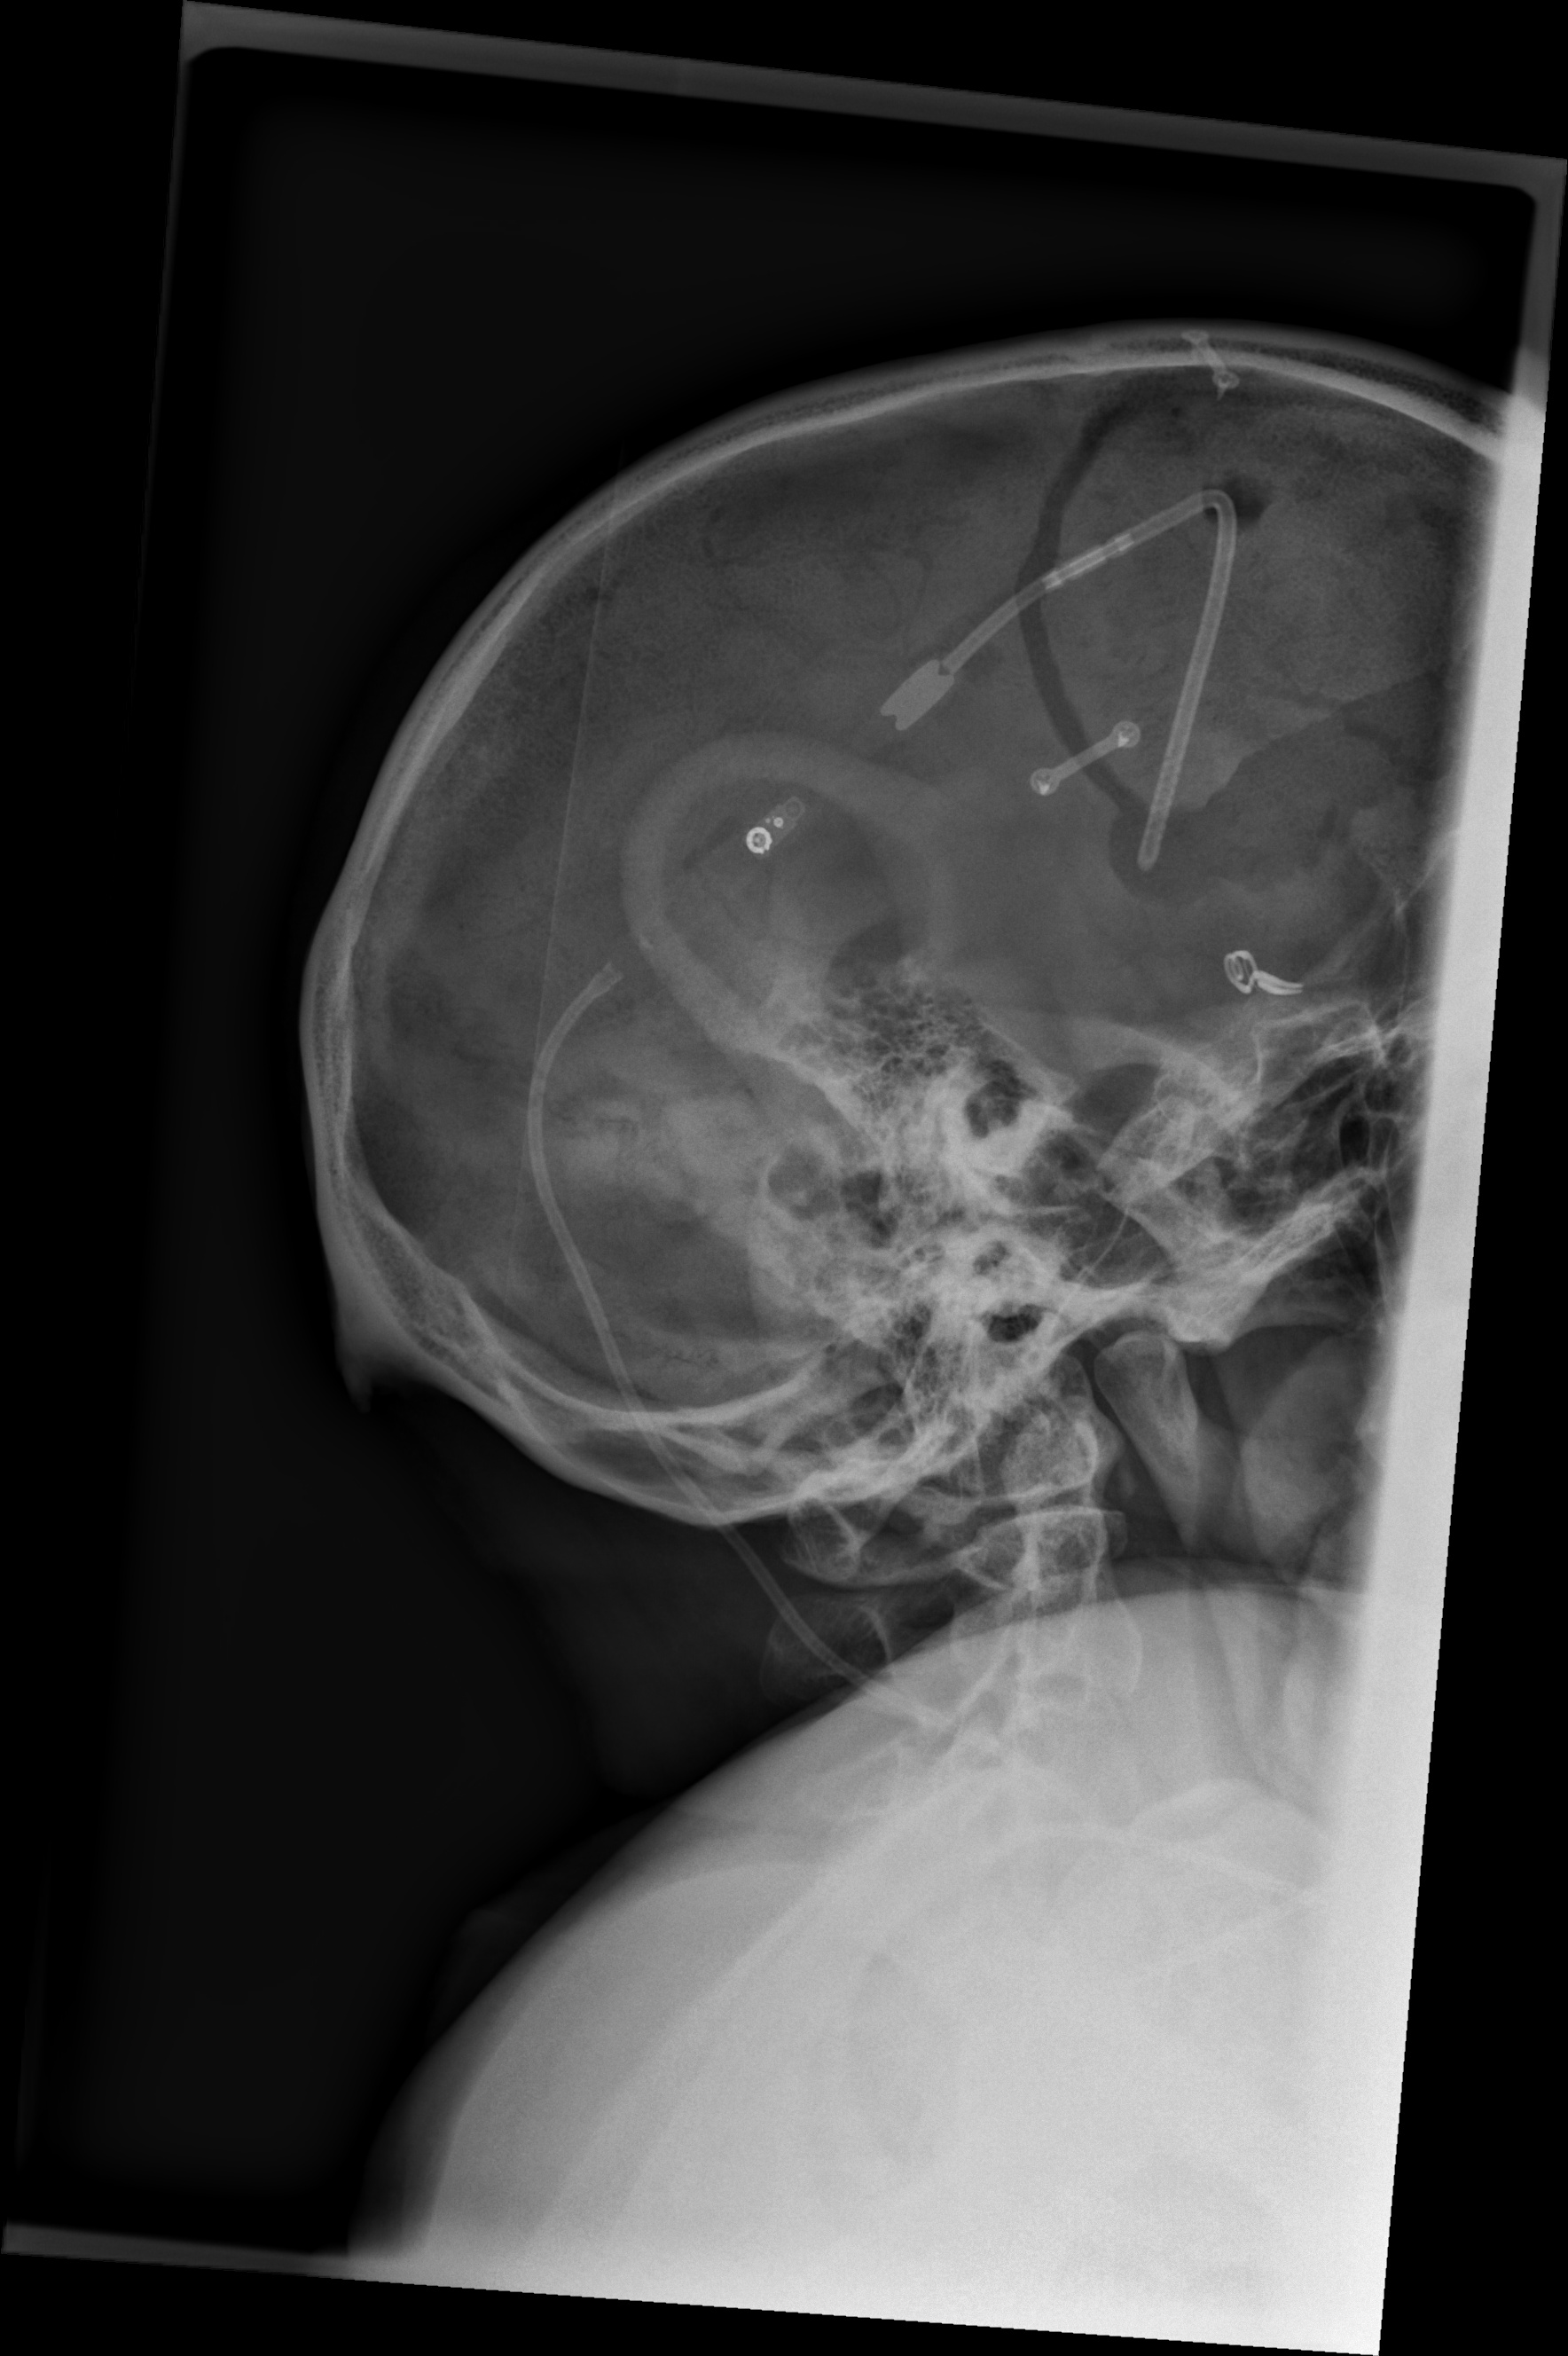Codman Hakim: (735, 796, 805, 866)
